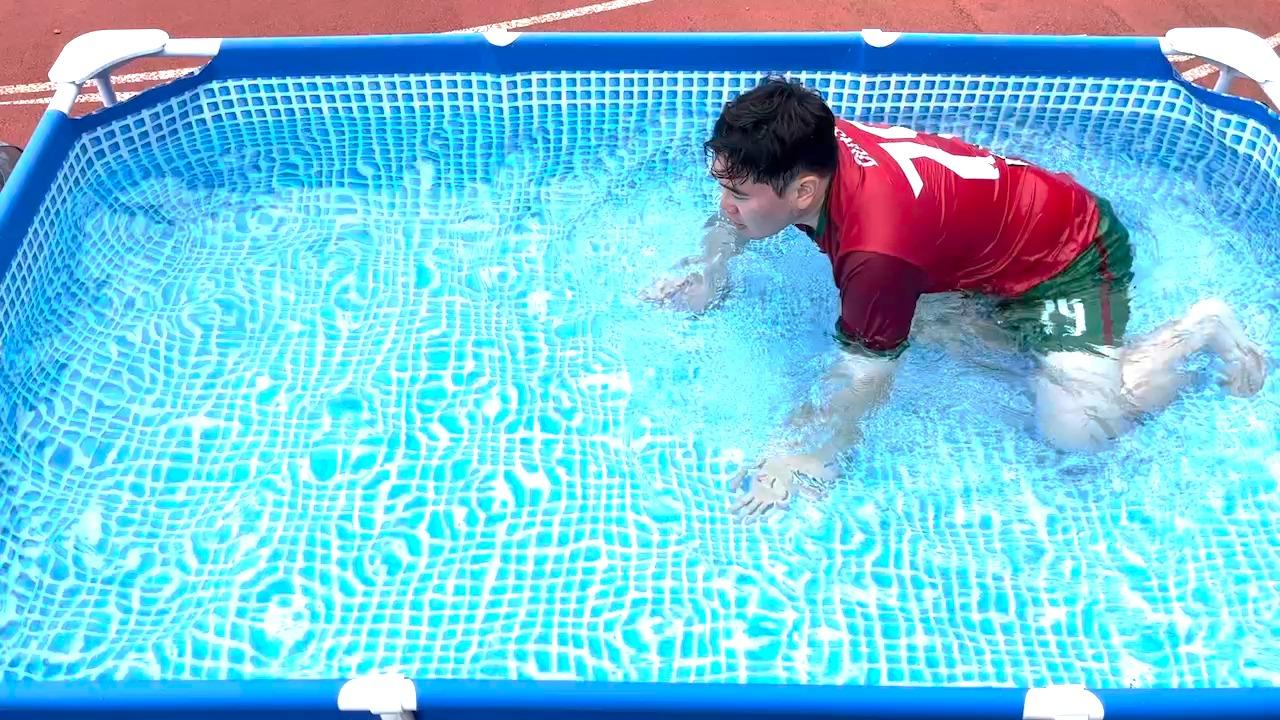Drowning: (590, 63, 1280, 510)
